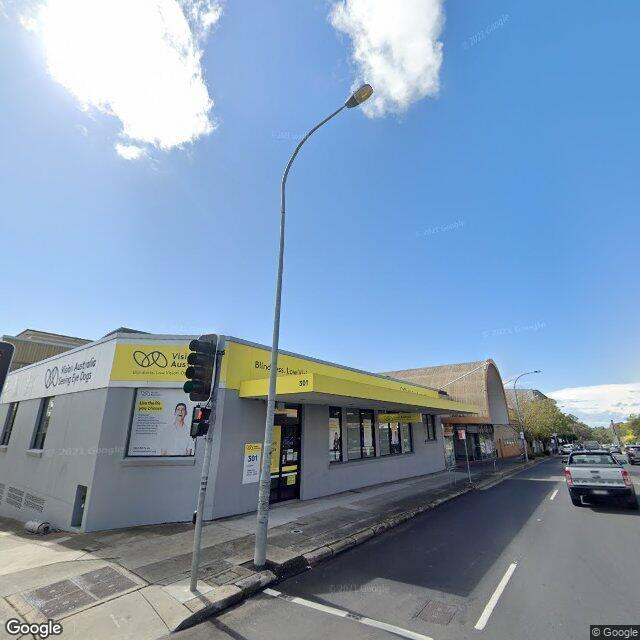steel-pole: (254, 184, 286, 565), (190, 334, 227, 592), (514, 386, 528, 462)
streetlight: (281, 83, 374, 189), (514, 369, 543, 390)
traffic-light: (182, 334, 218, 403), (190, 406, 212, 439)
